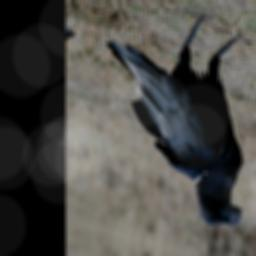Crow: (86, 0, 256, 235)
